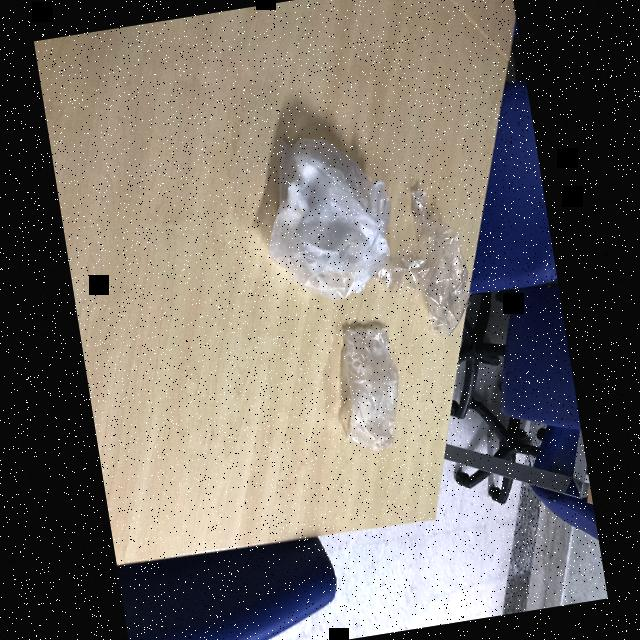plastic_bag: (244, 118, 394, 312), (386, 172, 482, 339), (330, 312, 410, 453)
